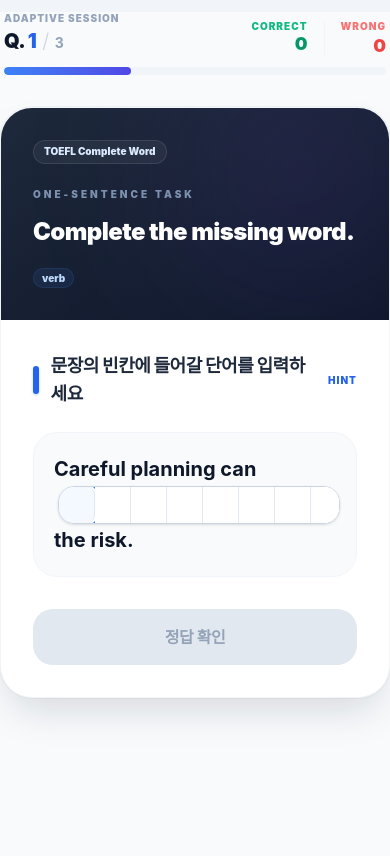
Test: CompleteWordQuiz › reveals only the first two letters after requesting a hint
expect the field named "빈칸 1의 1번째 철자" is shown: met, box [59,487,95,523]
expect the field named "빈칸 1의 2번째 철자" is shown: met, box [95,487,131,523]
Click the button "Hint" at [342, 380], box [328,374,357,386]
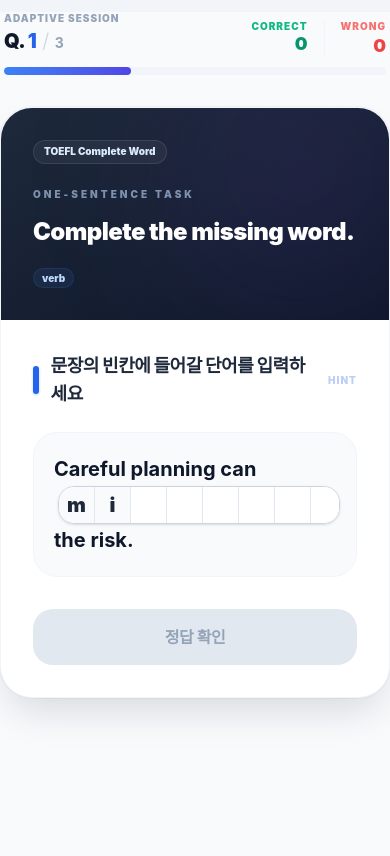
expect the field named "빈칸 1의 3번째 철자" is shown: met, box [131,487,167,523]
expect the text "m" is shown: met, box [59,487,95,523]
expect the text "i" is shown: met, box [95,487,131,523]
